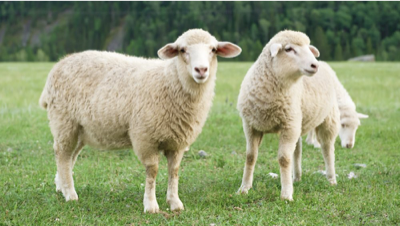koyun: (38, 28, 241, 213), (238, 27, 337, 199), (338, 102, 368, 148)
